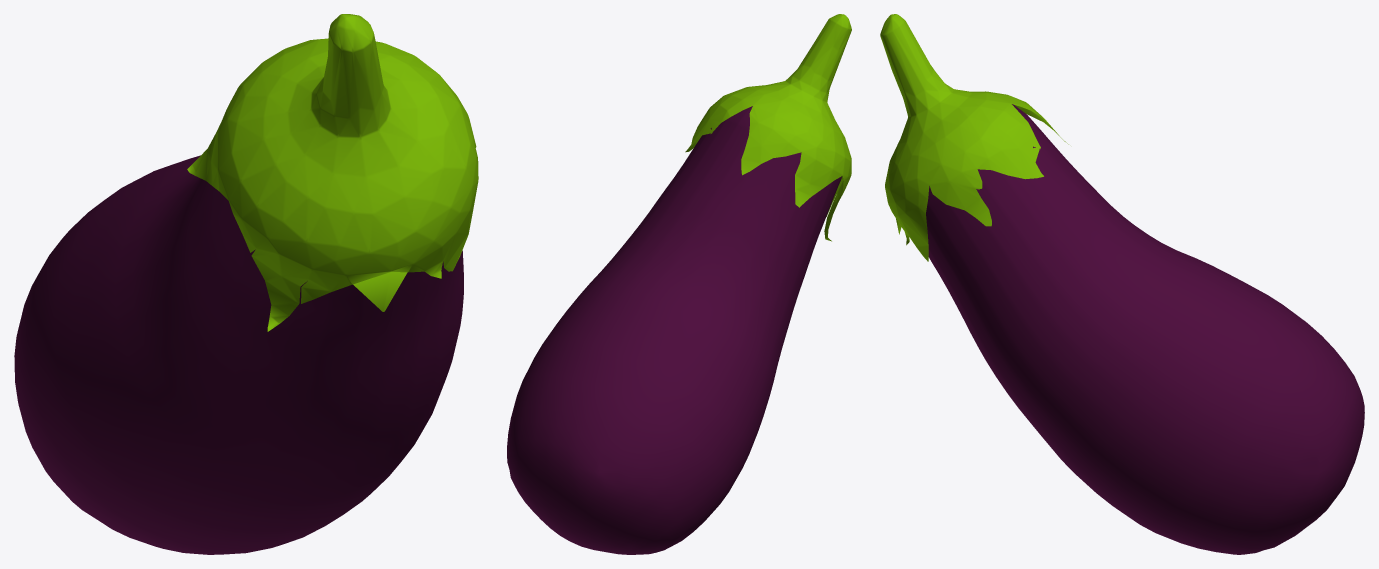
The model's file is eggplant.glb.
3 views of the same model, side by side, from view 1: azimuth 30°, elevation 25°; view 2: azimuth 150°, elevation 25°; view 3: azimuth 270°, elevation 25° (orthographic). The views are drawn at different scales.
Parts seen in each view (by area): view 1: eggplant.body, eggplant.top; view 2: eggplant.body, eggplant.top; view 3: eggplant.body, eggplant.top.
Part boxes in pixels (x1=…): eggplant.body: x1=14, y1=155, x2=463, y2=554; eggplant.top: x1=187, y1=14, x2=478, y2=331; eggplant.body: x1=507, y1=106, x2=841, y2=554; eggplant.top: x1=685, y1=14, x2=851, y2=241; eggplant.body: x1=926, y1=104, x2=1364, y2=554; eggplant.top: x1=880, y1=14, x2=1068, y2=261.
Size of the model in its own units: 0.0803 by 0.1626 by 0.1462.
